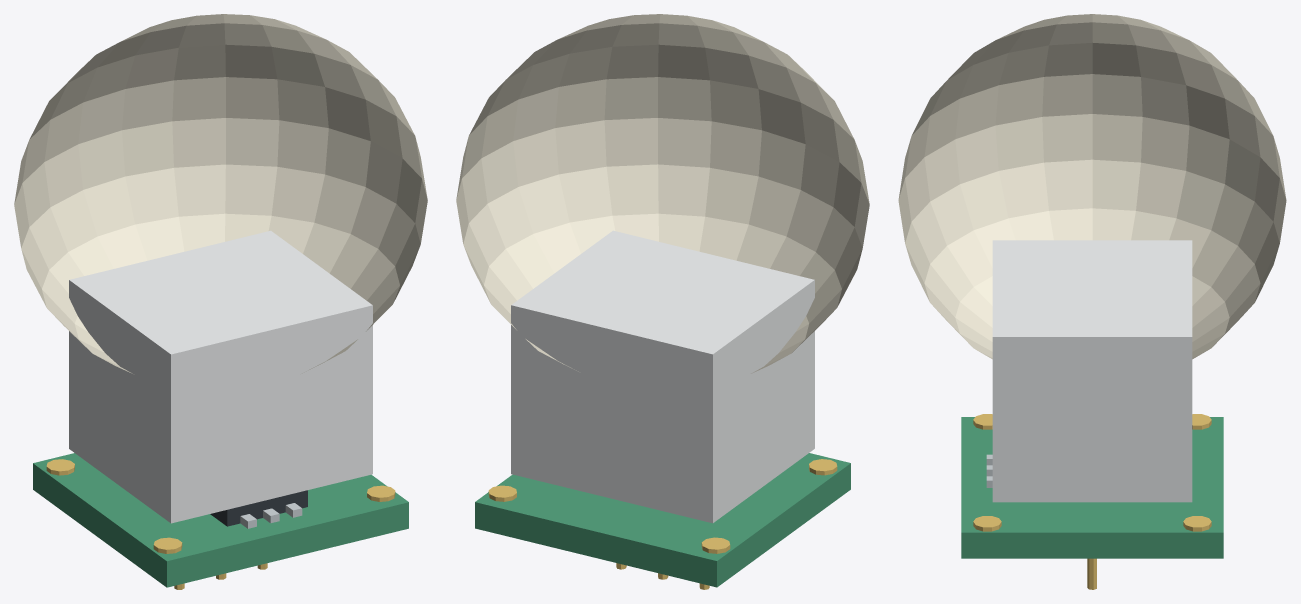
Rendered from product-9.glb.
3 renders of one model, left to right at view 1: azimuth 30°, elevation 25°; view 2: azimuth 150°, elevation 25°; view 3: azimuth 270°, elevation 25°, orthographic. The views are drawn at different scales.
Parts seen in each view (by area): view 1: product-9; view 2: product-9; view 3: product-9.
Part boxes in pixels (bbox=[...]): product-9: bbox=[14, 14, 427, 589]; product-9: bbox=[456, 14, 869, 589]; product-9: bbox=[898, 14, 1286, 589].
Size of the model in its own units: 0.72 by 1.03 by 0.68.
